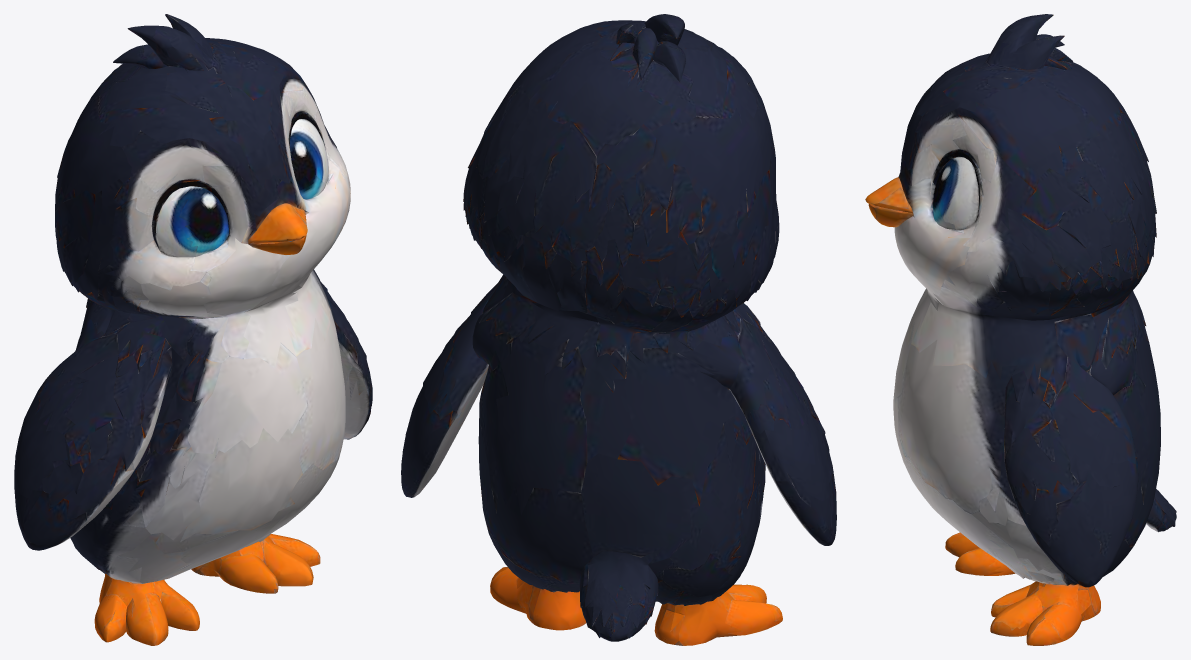
File: penguin.glb
The picture shows the model from 3 angles, left to right: view 1: azimuth 30°, elevation 25°; view 2: azimuth 150°, elevation 25°; view 3: azimuth 270°, elevation 25°; orthographic projection. The views are drawn at different scales.
Bounding box in the file's own units: 1.28 × 1.9 × 0.9722.
Materials: 1 (1 with a texture image).
